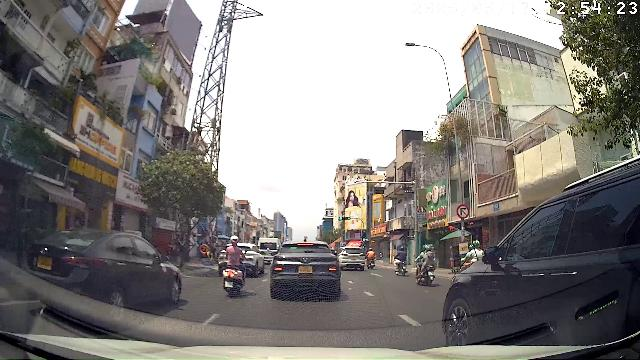123b-cam-re-phai: (456, 204, 469, 219)
